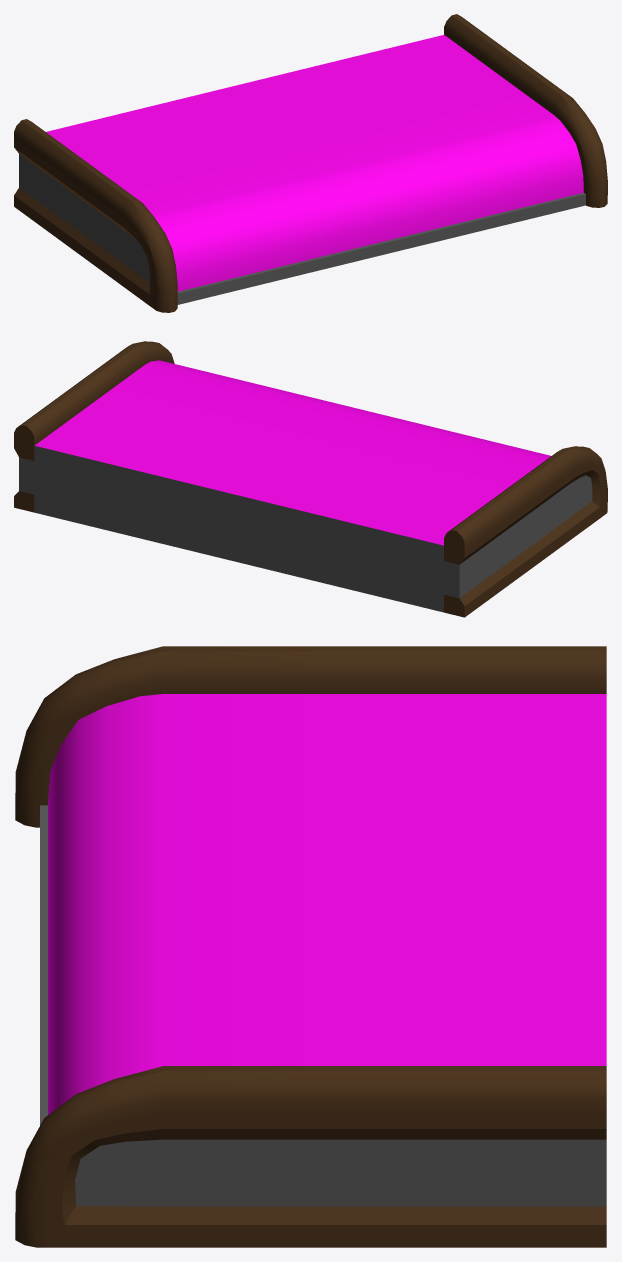
Rendered from ConveyorEnd.fbx.
3 renders of one model, top to bottom at view 1: azimuth 30°, elevation 25°; view 2: azimuth 150°, elevation 25°; view 3: azimuth 270°, elevation 25°, orthographic. The views are drawn at different scales.
Visible parts, largest first — view 1: Cube; view 2: Cube; view 3: Cube.
Part boxes in pixels (box(x1,y1,x2,y2)): Cube: box(14, 14, 607, 312); Cube: box(14, 341, 607, 617); Cube: box(15, 646, 606, 1247).
Size of the model in its own units: 176 by 31.56 by 100.
